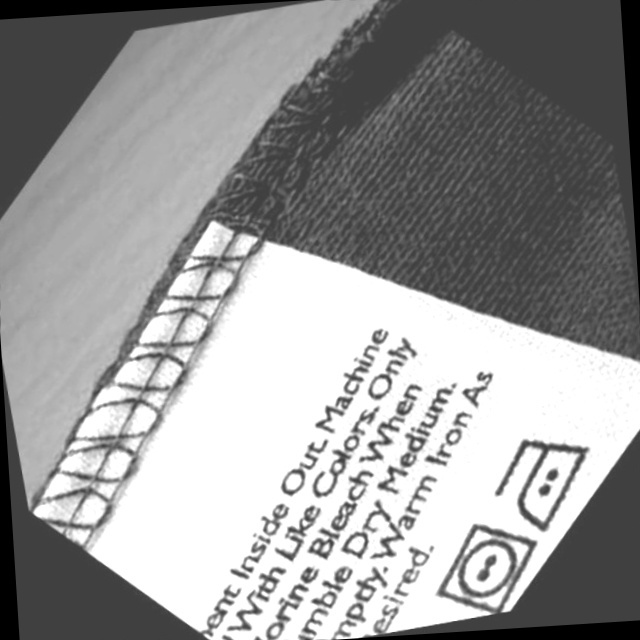iron_medium: (482, 420, 614, 542)
tumble_dry_medium: (422, 508, 556, 627)
